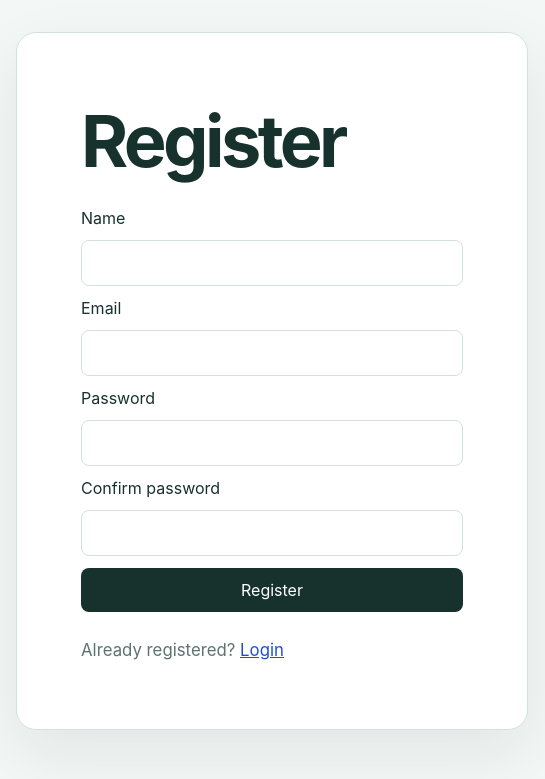
Identity pages › shows registration validation errors
Step 1. Type "Care Match" into the field labelled "Name" → (272, 263), box [81,240,463,286]
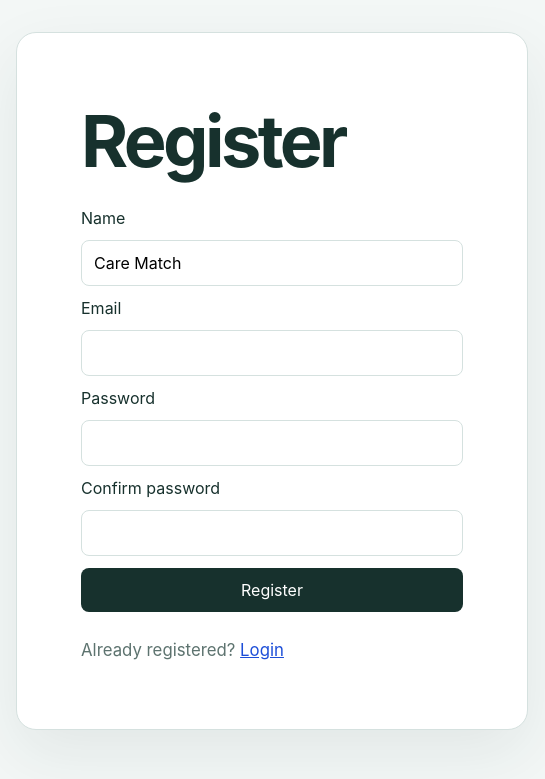
Step 2. Type "person@example.com" into the field labelled "Email" → (272, 353), box [81,330,463,376]
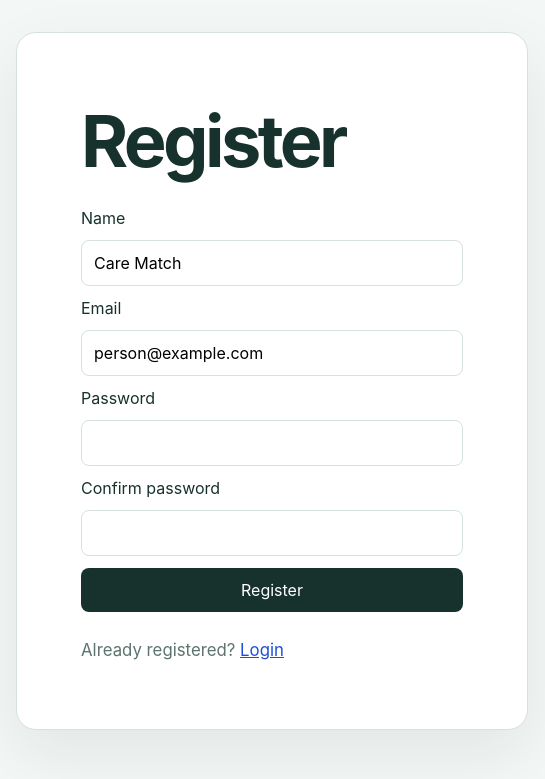
Step 3. Type "long-enough-password" into the password field labelled "Password" → (272, 443), box [81,420,463,466]
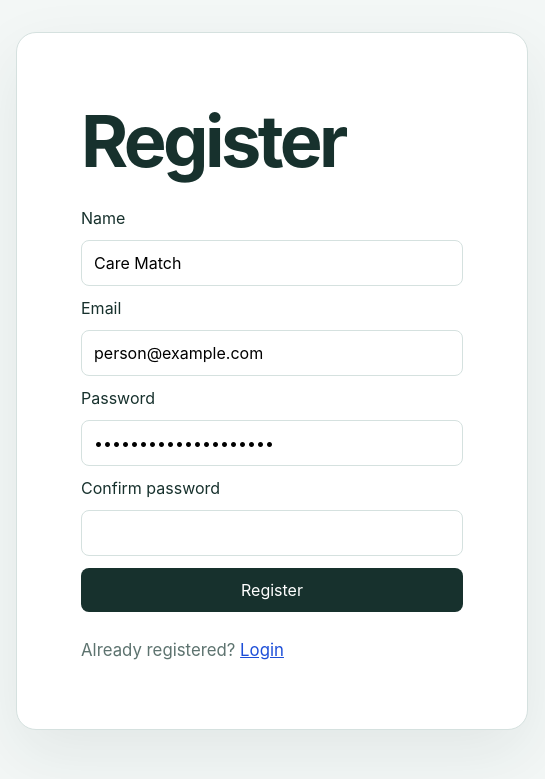
Step 4. Type "long-enough-password" into the password field labelled "Confirm password" → (272, 533), box [81,510,463,556]
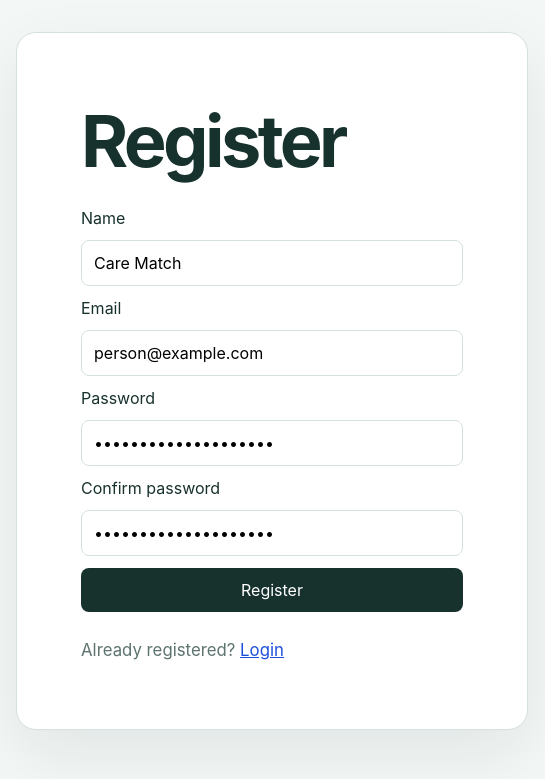
Step 5. Click the button "Register" → (272, 590), box [81,568,463,612]
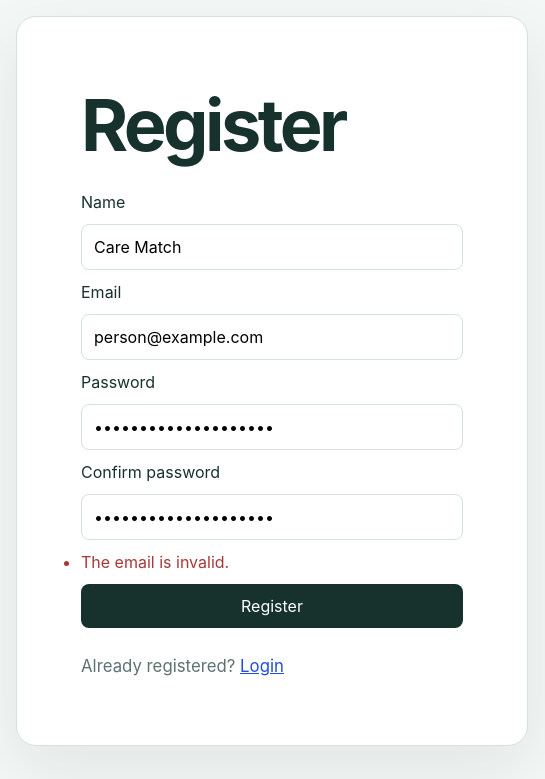
Expected: the list item "The email is invalid." is shown, [81,552,229,572]
